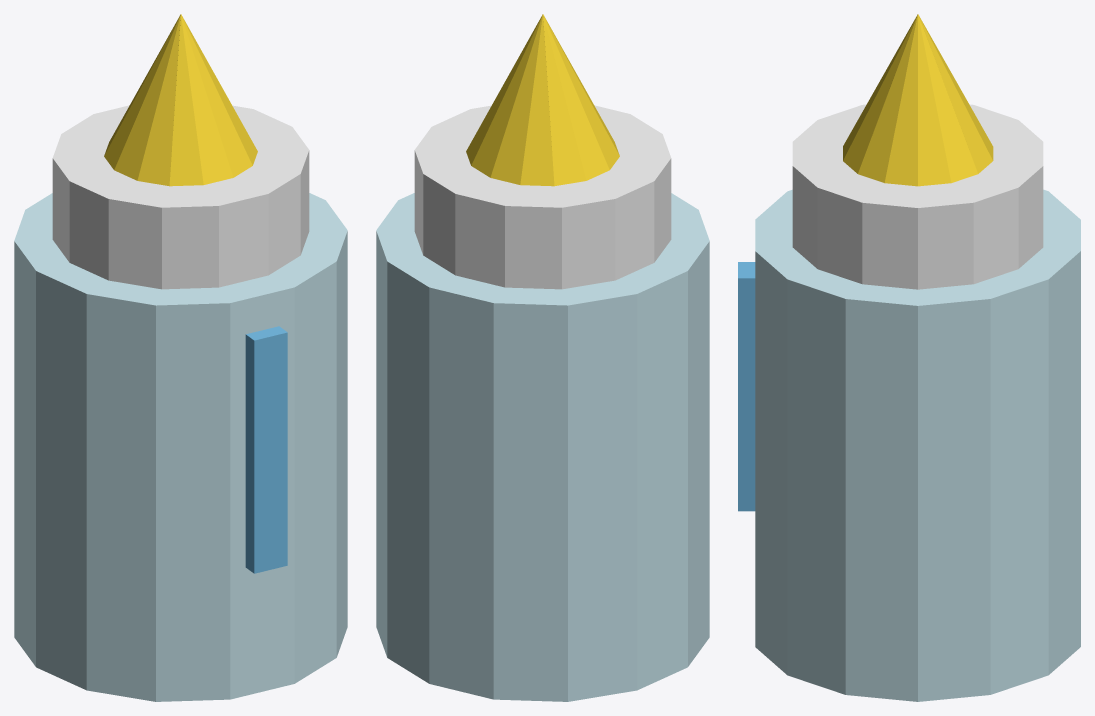
File: Item_Bottle.obj
3 views of the same model, side by side, from view 1: azimuth 30°, elevation 25°; view 2: azimuth 150°, elevation 25°; view 3: azimuth 270°, elevation 25° (orthographic).
Parts seen in each view (by area): view 1: Item_Bottle; view 2: Item_Bottle; view 3: Item_Bottle.
Part boxes in pixels (x1=…): Item_Bottle: x1=14, y1=14, x2=347, y2=701; Item_Bottle: x1=376, y1=14, x2=709, y2=701; Item_Bottle: x1=738, y1=14, x2=1080, y2=701.
Bounding box in the file's own units: 0.26 × 0.53 × 0.2667.
